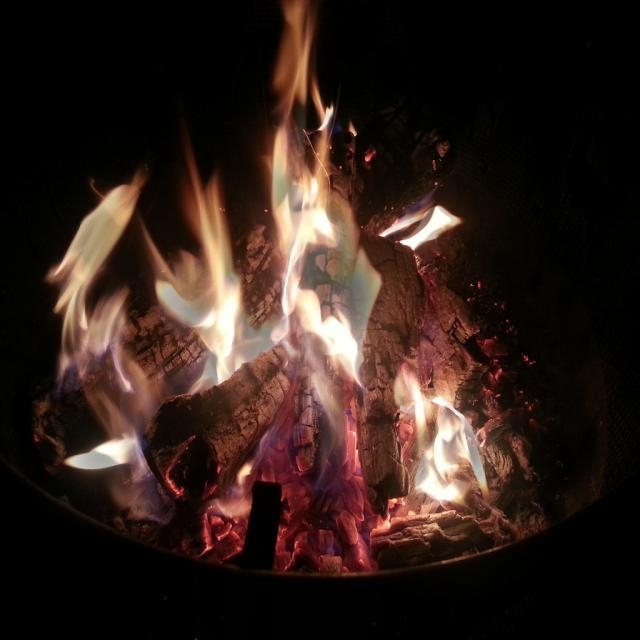Fire: (65, 200, 249, 373), (282, 174, 366, 388)
